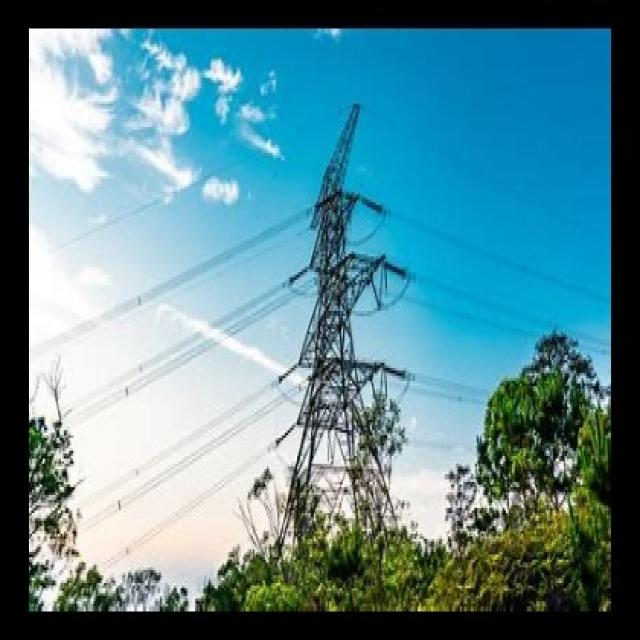utility poles: (476, 282, 580, 462), (322, 344, 423, 514)
